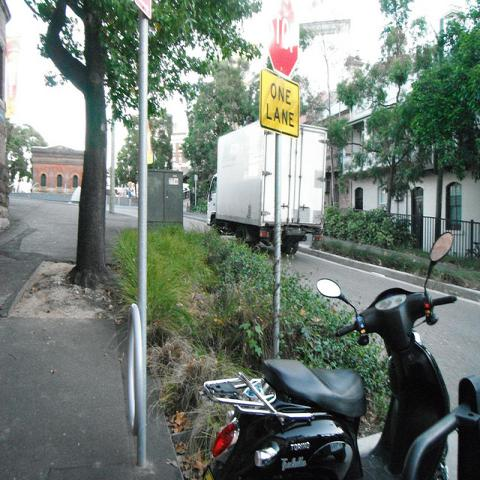motorcycle: (200, 230, 459, 479)
truck: (204, 123, 277, 254), (280, 125, 326, 254)
